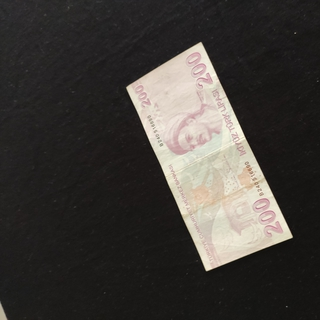200TLBack: (125, 41, 293, 272)
